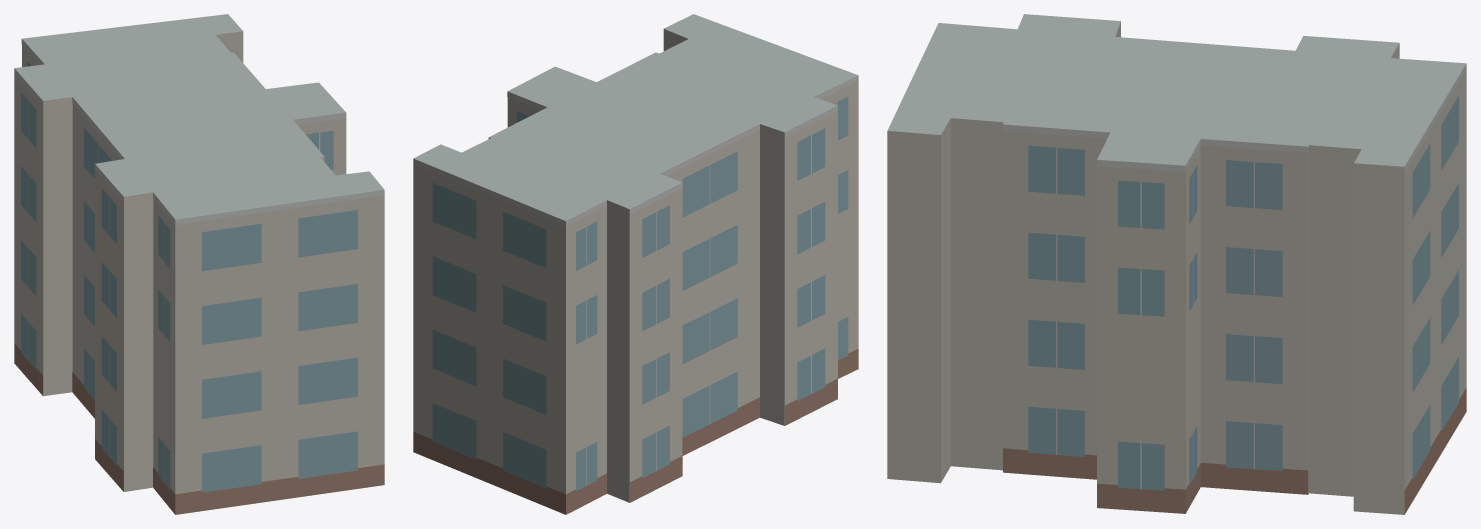
The model's file is survey-upis-32685618.glb.
3 views of the same model, side by side, from view 1: azimuth 30°, elevation 25°; view 2: azimuth 150°, elevation 25°; view 3: azimuth 270°, elevation 25° (orthographic). The views are drawn at different scales.
Parts seen in each view (by area): view 1: survey-upis-32685618.tmp; view 2: survey-upis-32685618.tmp; view 3: survey-upis-32685618.tmp.
Part boxes in pixels (x1,y1,x2,y2): survey-upis-32685618.tmp: [14, 14, 384, 514]; survey-upis-32685618.tmp: [413, 14, 858, 514]; survey-upis-32685618.tmp: [887, 14, 1466, 514].
Bounding box in the file's own units: 12.24 × 13 × 19.61.
